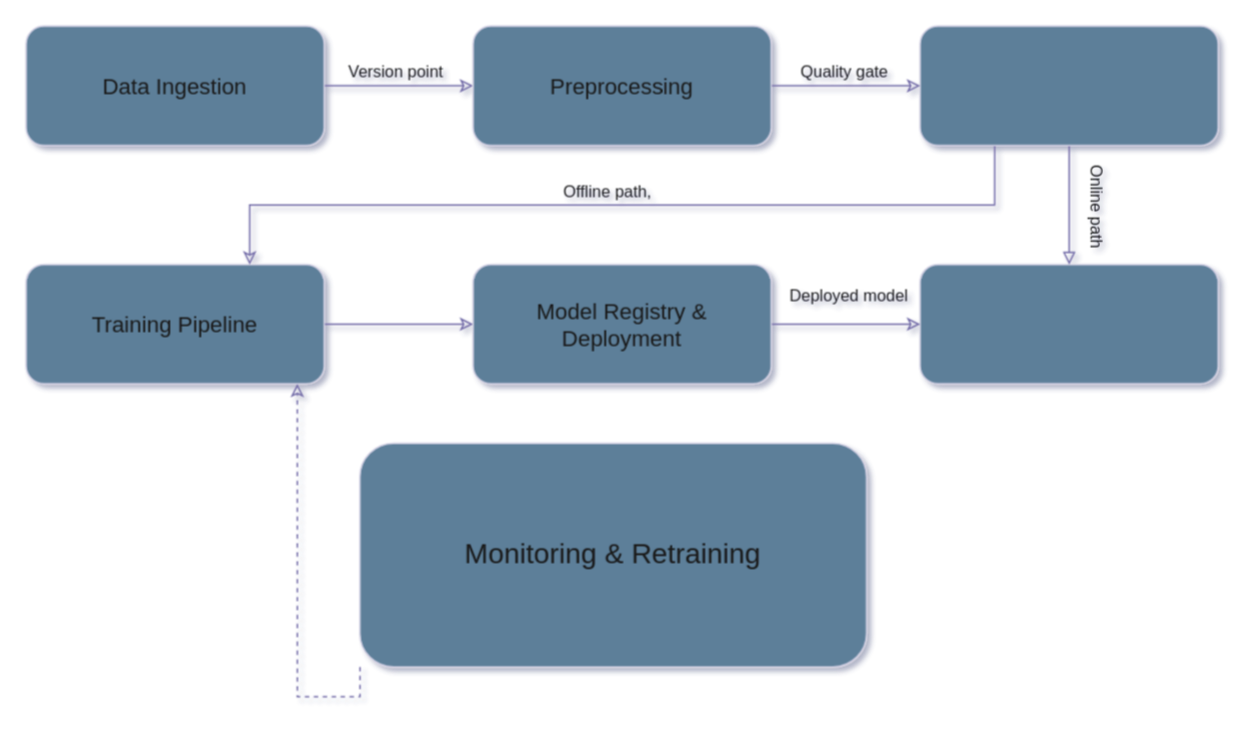
Some shapes in this 1253 by 744 pixel diagram are drawn without their labels. Each missing label, with the centre of its shape:
"Feature Store Offline / Online" goes at (1068,85).
"Inference" goes at (1068,323).
